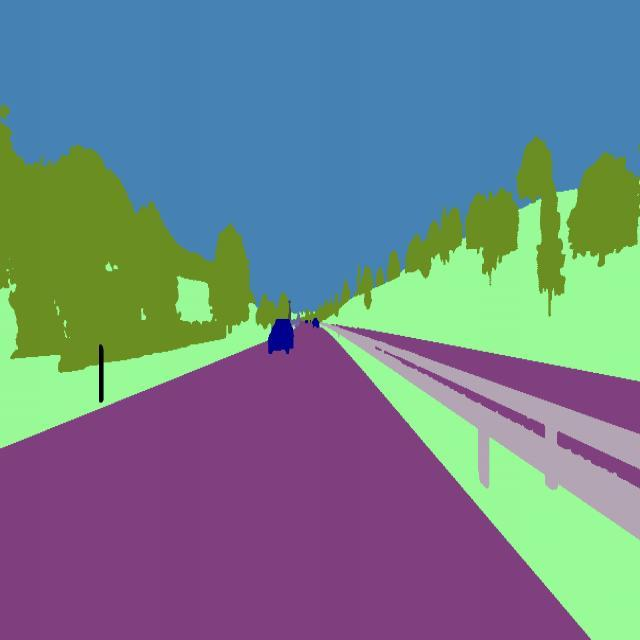safe: (266, 315, 296, 359), (310, 316, 320, 330)
